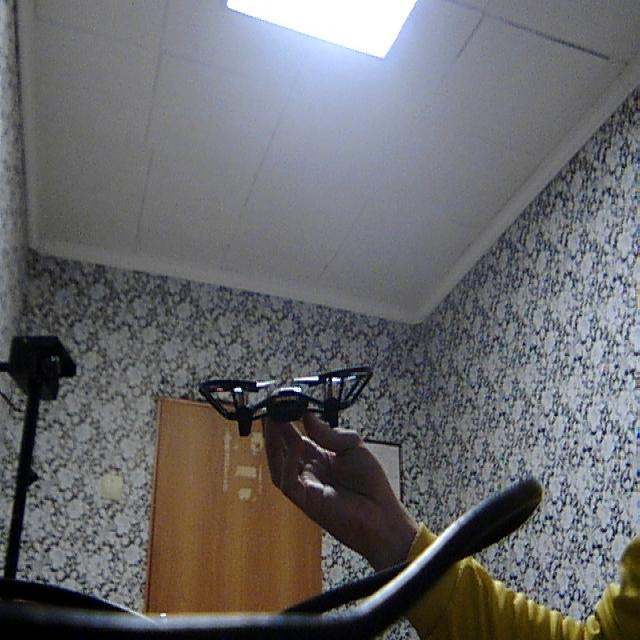drone: (187, 352, 384, 446)
